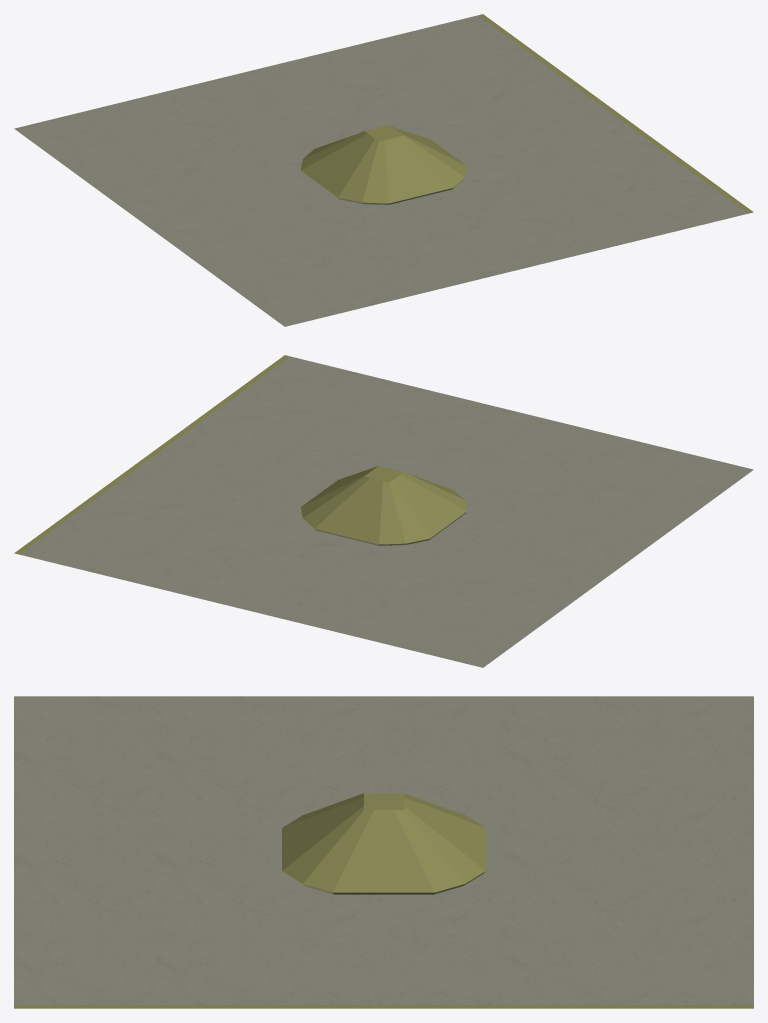
File: ceiling.obj
3 views of the same model, one above another, from view 1: azimuth 30°, elevation 25°; view 2: azimuth 150°, elevation 25°; view 3: azimuth 270°, elevation 25° (orthographic). The views are drawn at different scales.
Parts seen in each view (by area): view 1: 立方体; view 2: 立方体; view 3: 立方体.
Boxes of the visible parts, bbox=[...] form: 立方体: bbox=[14, 14, 753, 326]; 立方体: bbox=[14, 355, 753, 667]; 立方体: bbox=[14, 696, 753, 1008].
Bounding box in the file's own units: 2 × 0.3409 × 2.
1 material, 1 textured.
